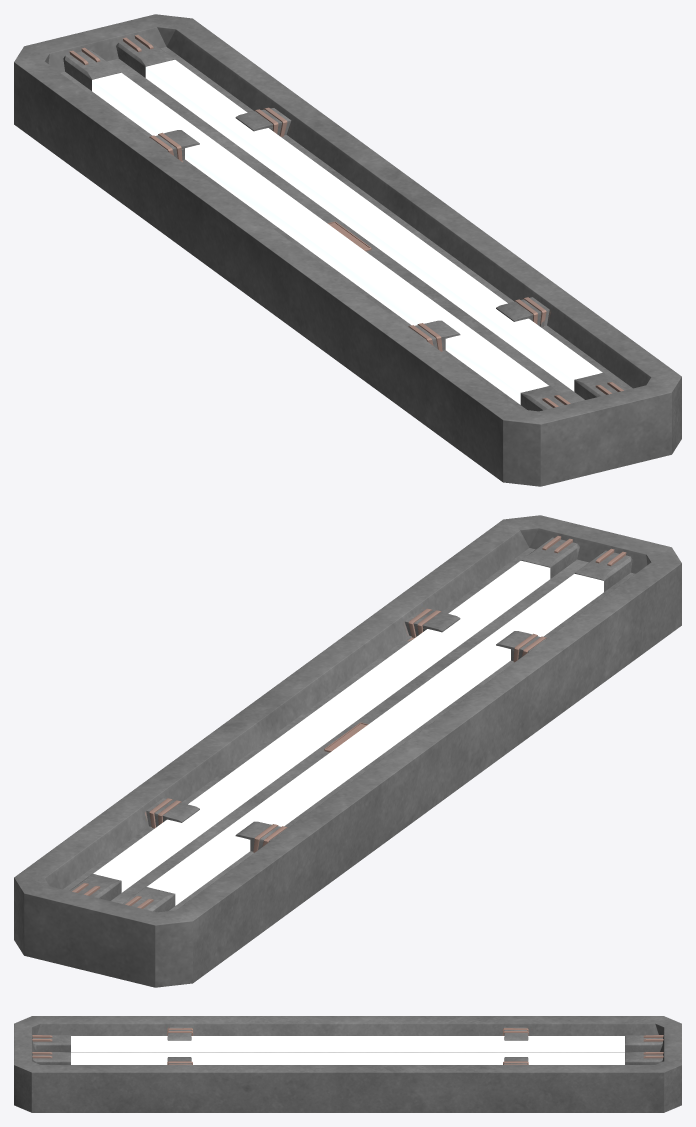
3 renders of one model, top to bottom at view 1: azimuth 30°, elevation 25°; view 2: azimuth 150°, elevation 25°; view 3: azimuth 270°, elevation 25°, orthographic. The views are drawn at different scales.
Visible parts, largest first — view 1: CeilingLight; view 2: CeilingLight; view 3: CeilingLight.
Boxes of the visible parts, x1,y1,x2,y2 form: CeilingLight: [14, 14, 681, 486]; CeilingLight: [14, 515, 681, 987]; CeilingLight: [14, 1016, 681, 1112].
Bounding box in the file's own units: 0.3 × 0.1 × 1.5.
4 materials, 3 textured.
